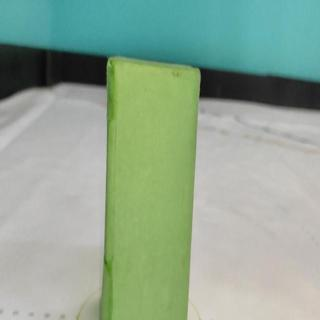greenbox: (107, 55, 204, 320)
